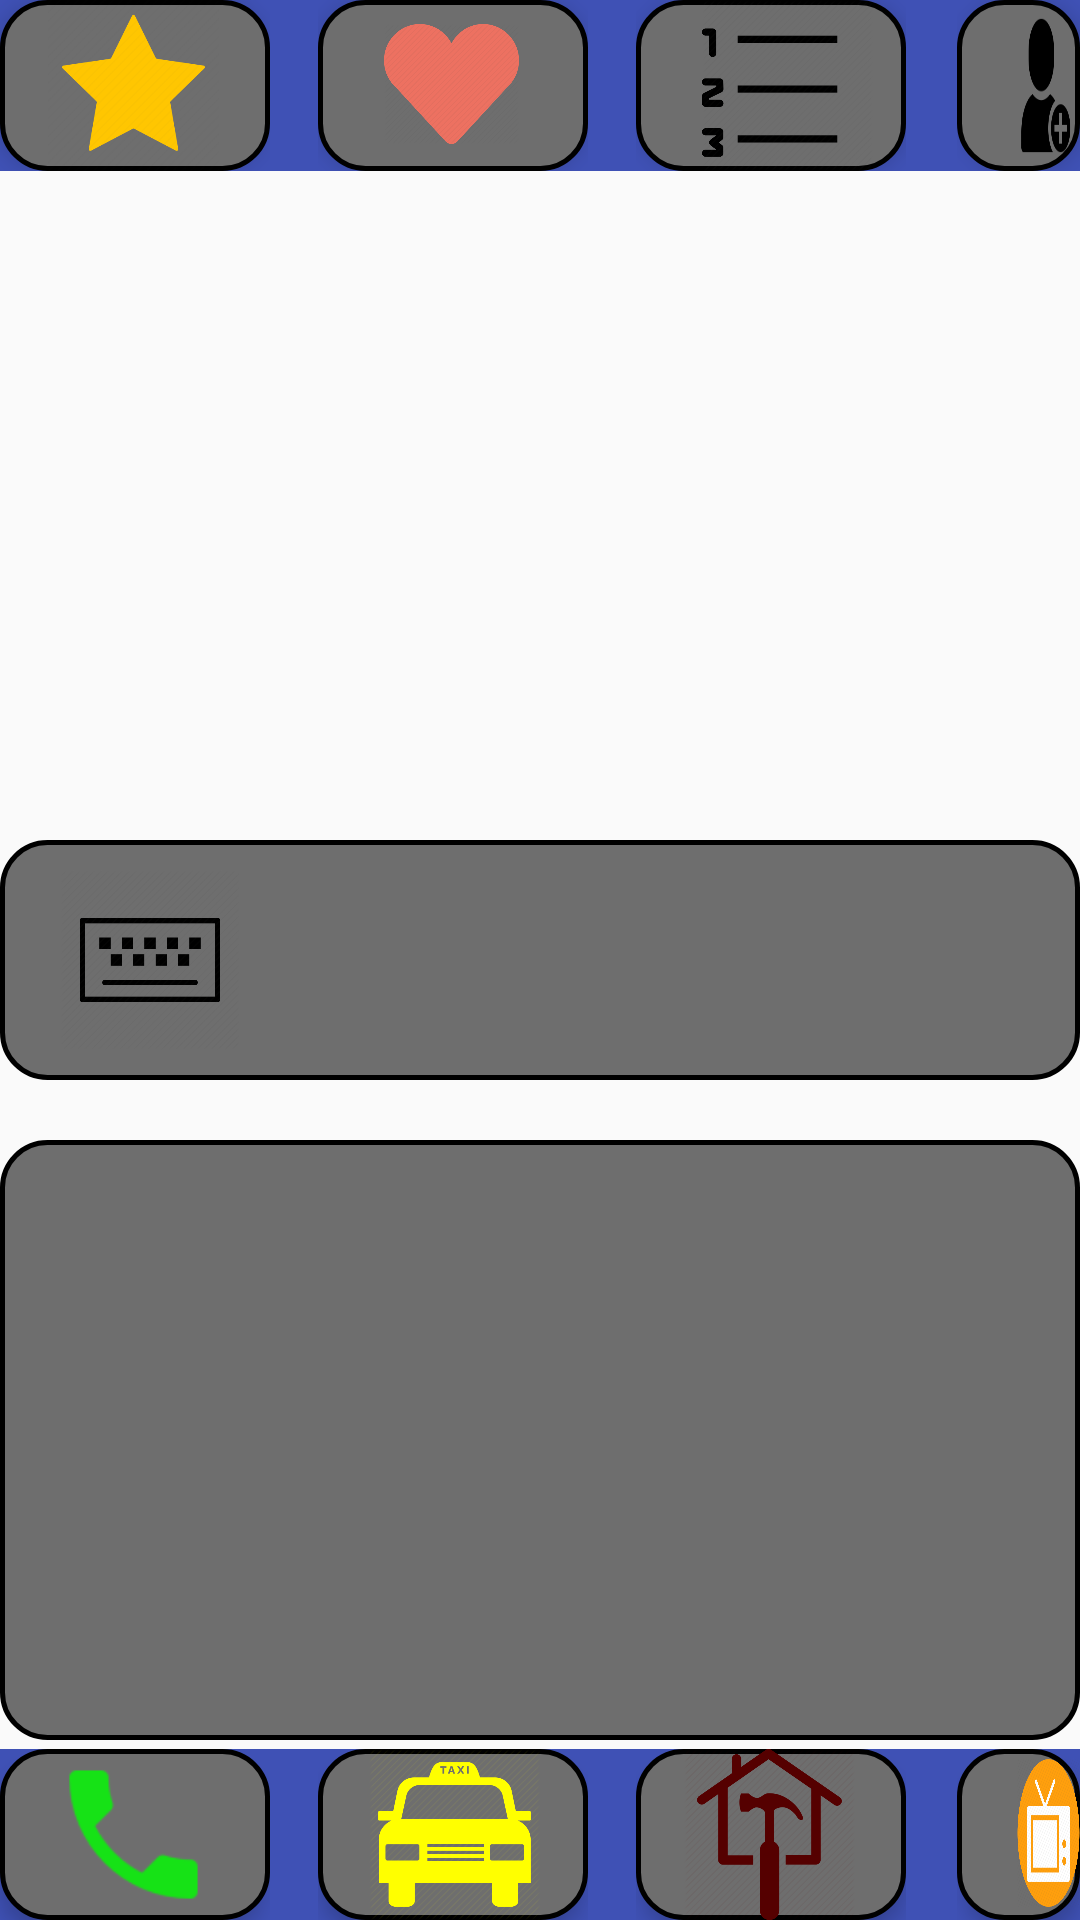

Icon bounding boxes for this 1080x1920 phone screenshot, format (x1, y1, x2, y2):
keyboard: (80, 918, 220, 1002)
